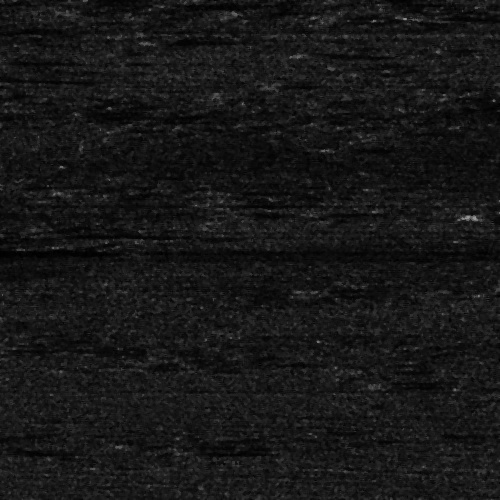object: (428, 207, 500, 218), (5, 228, 78, 237)
shadow: (41, 228, 172, 237), (0, 246, 84, 255)
